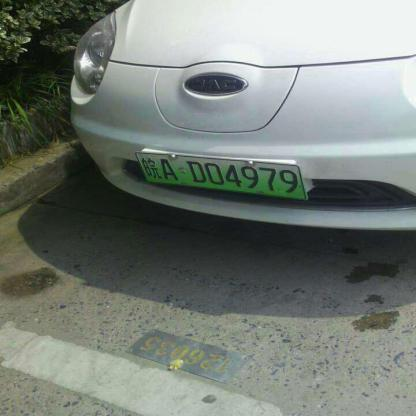lp: (135, 152, 305, 200)
